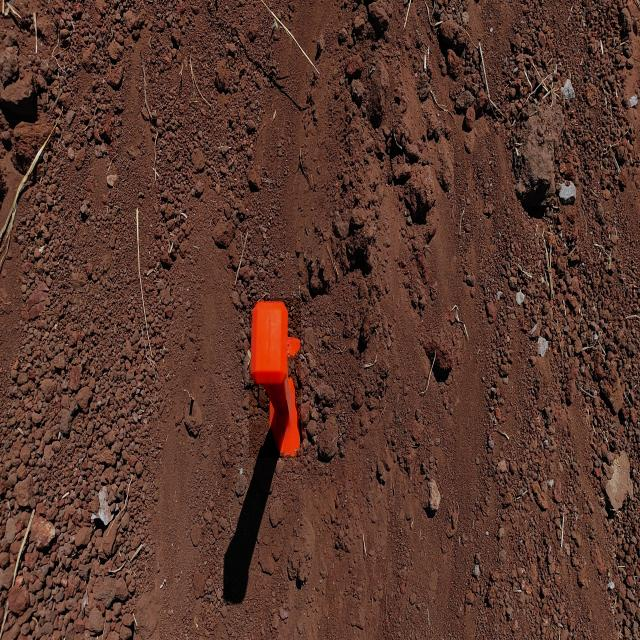Orange_hammer: (249, 298, 301, 458)
